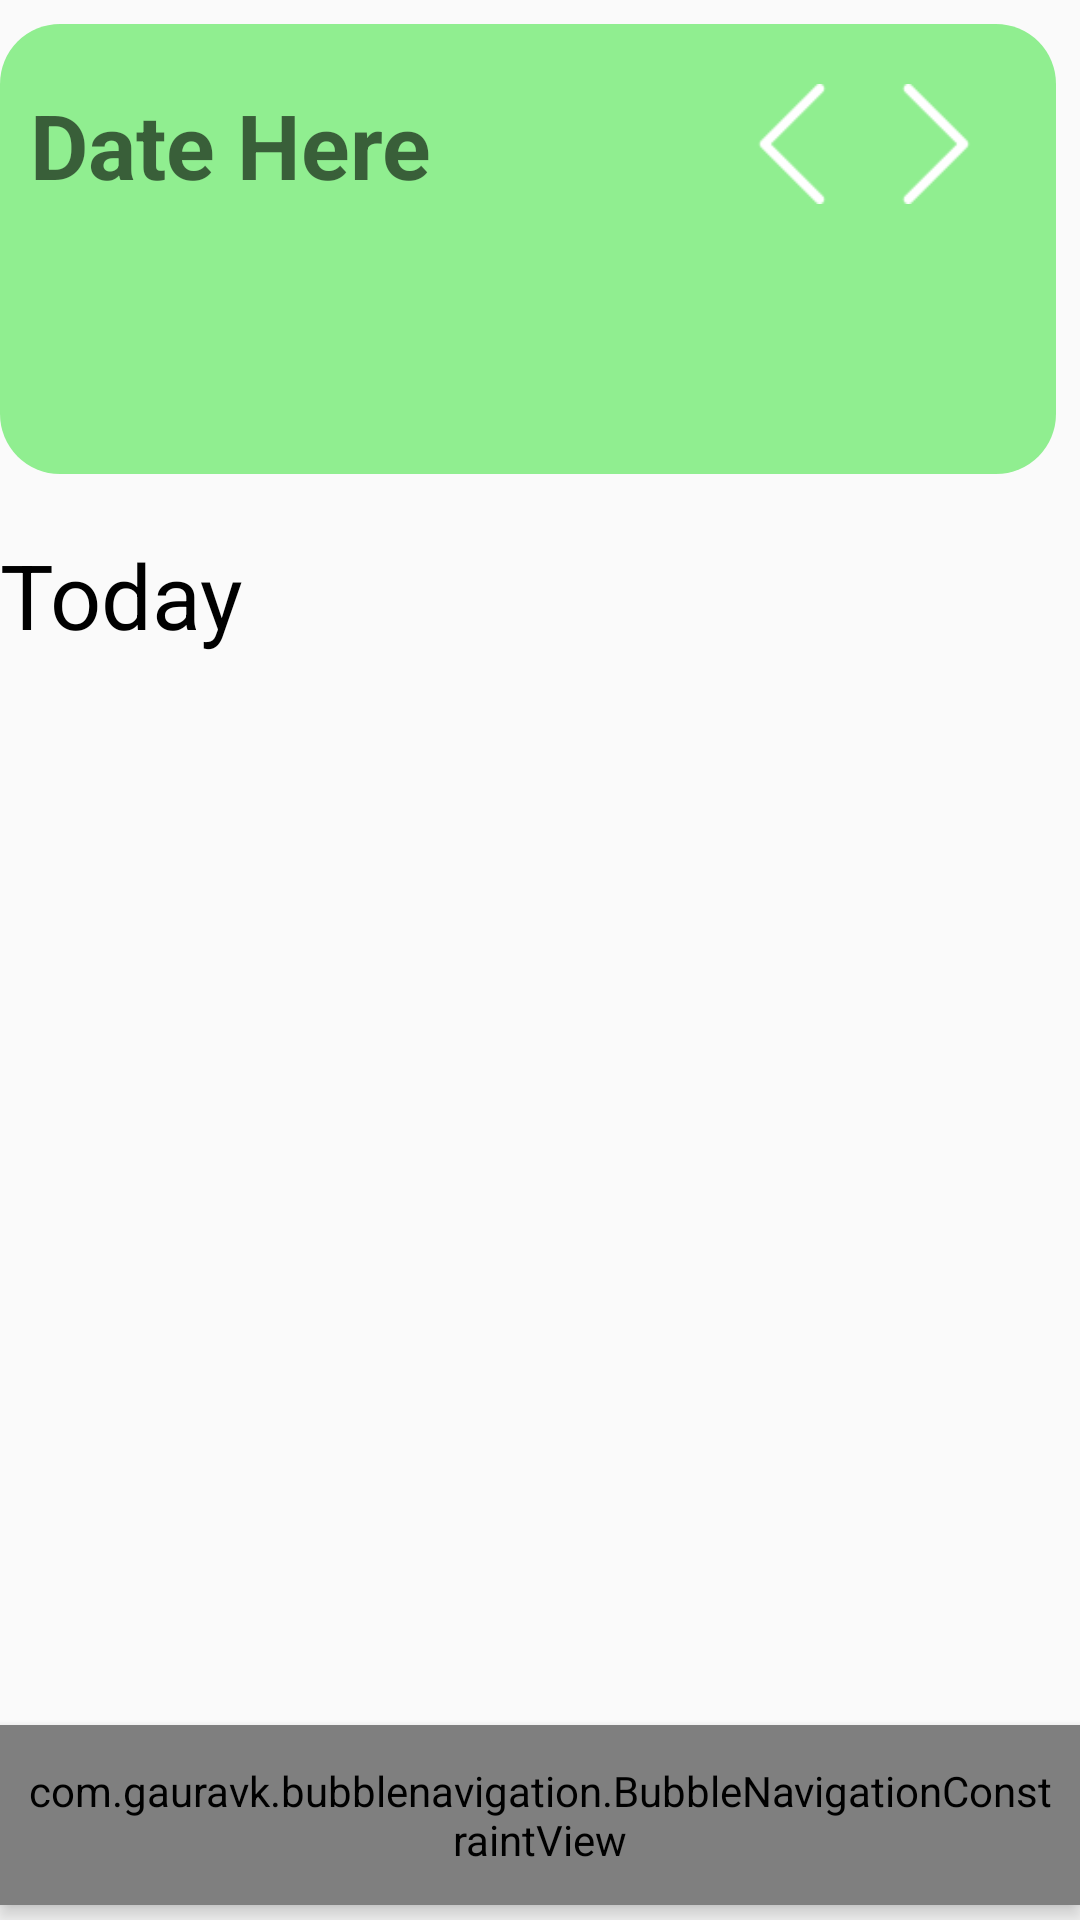

Where icons sit on this 1080*1920 app screen, as Rect(x1, y1, x2, y2):
next: Rect(903, 84, 969, 204)
prev: Rect(759, 84, 825, 204)
